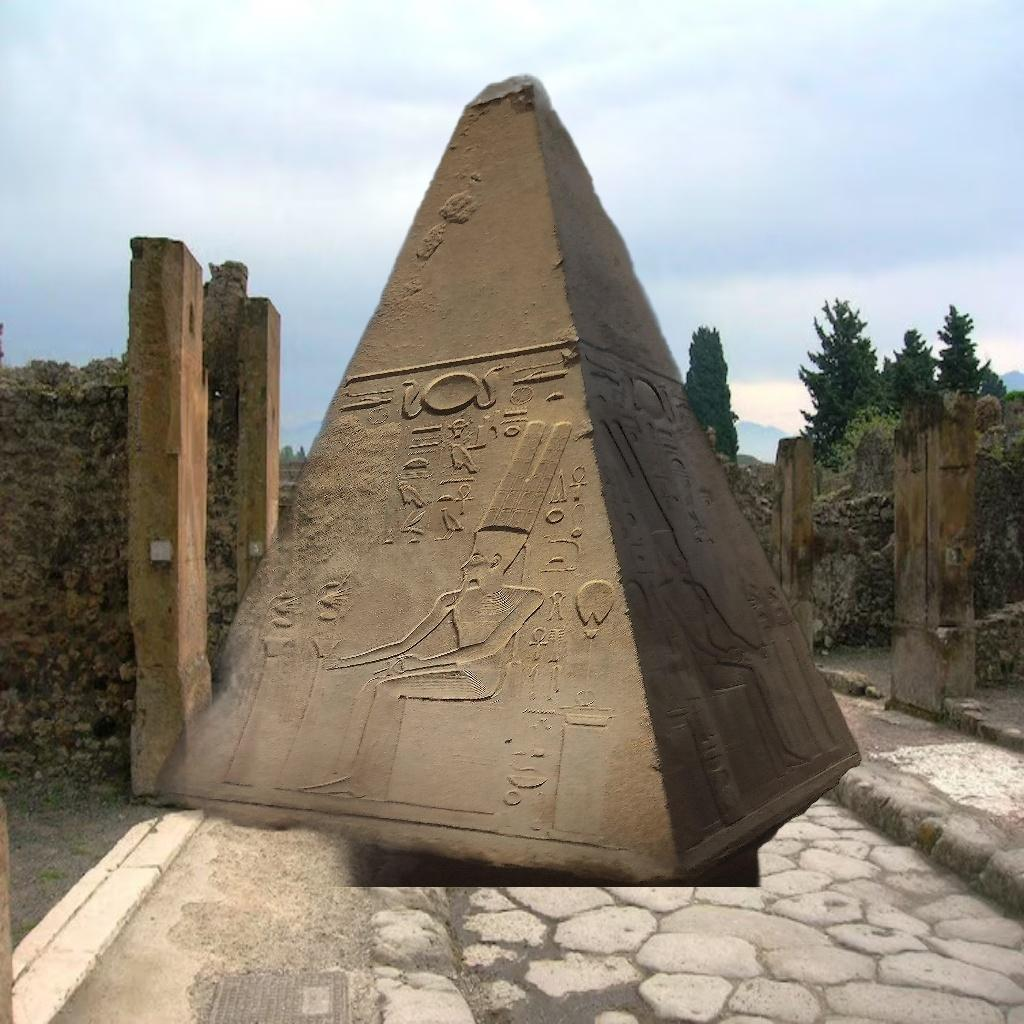Obelsik Tip of Hatshepsut: (150, 70, 866, 887)
